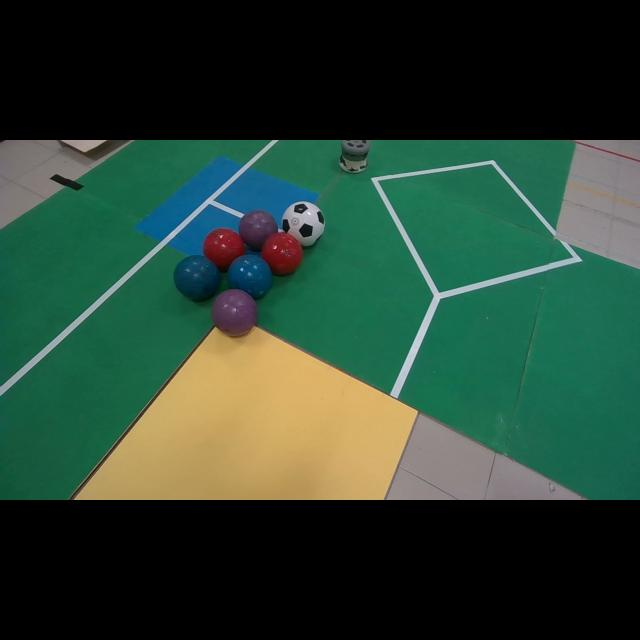B: (174, 256, 221, 300), (229, 255, 271, 299)
P: (211, 289, 258, 336), (239, 210, 278, 251)
R: (202, 228, 245, 272), (261, 232, 302, 276)
